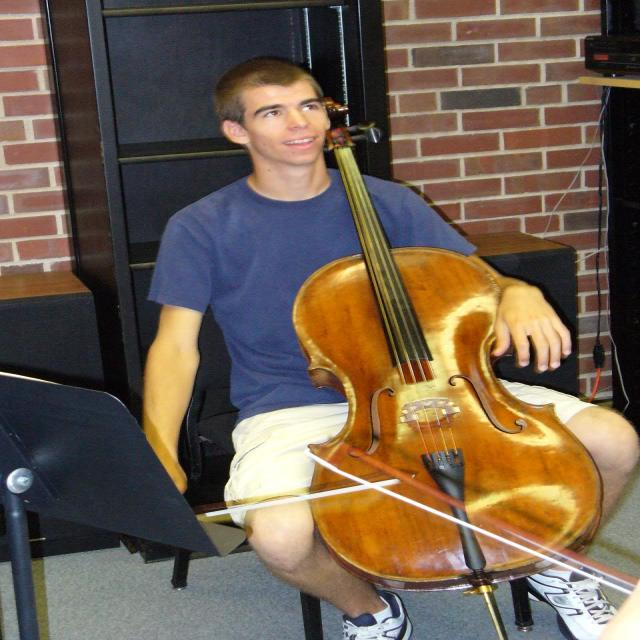cello: (287, 97, 611, 588)
